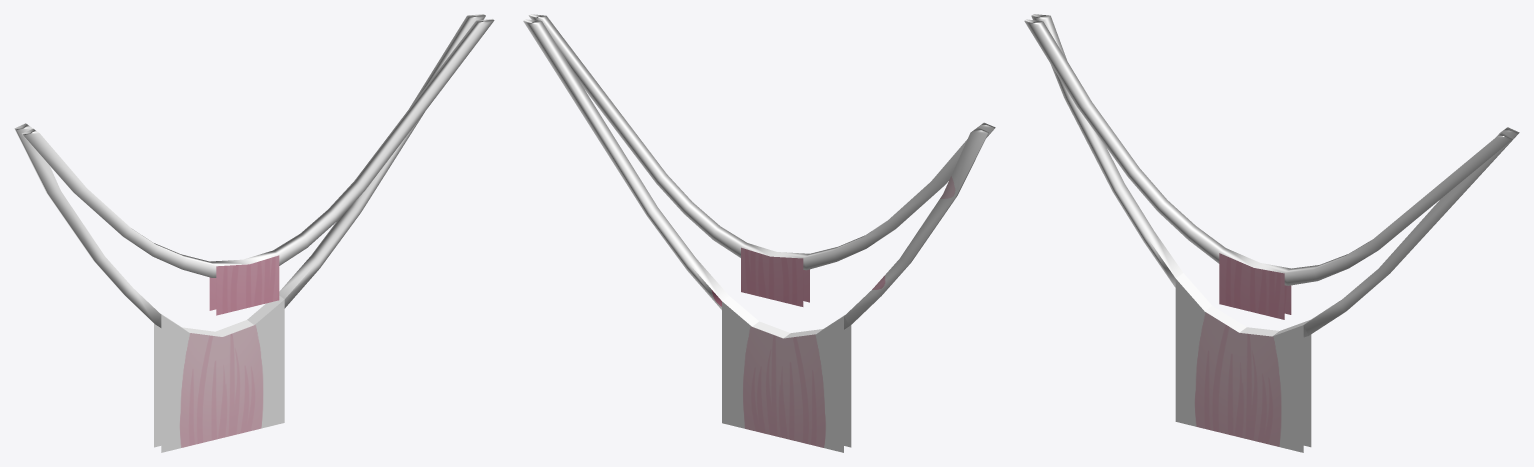
The model's file is Vines_Two.fbx.
3 views of the same model, side by side, from view 1: azimuth 30°, elevation 25°; view 2: azimuth 150°, elevation 25°; view 3: azimuth 330°, elevation 25° (orthographic). The views are drawn at different scales.
Visible parts, largest first — view 1: Moss2, Vine1, Vine2, Moss1; view 2: Moss2, Vine2, Vine1, Moss1; view 3: Moss2, Vine1, Vine2, Moss1.
Boxes of the visible parts, box(x1,y1,x2,y2) form: Moss2: box(154, 300, 284, 452); Vine1: box(22, 18, 494, 277); Vine2: box(14, 14, 485, 336); Moss1: box(209, 255, 279, 315); Moss2: box(722, 301, 851, 452); Vine2: box(523, 19, 988, 338); Vine1: box(528, 14, 995, 270); Moss1: box(741, 247, 809, 306); Moss2: box(1175, 279, 1311, 452); Vine1: box(1024, 19, 1513, 285); Vine2: box(1031, 14, 1519, 337); Moss1: box(1219, 253, 1291, 319).
Size of the model in its own units: 12.65 by 9.13 by 0.6466.
